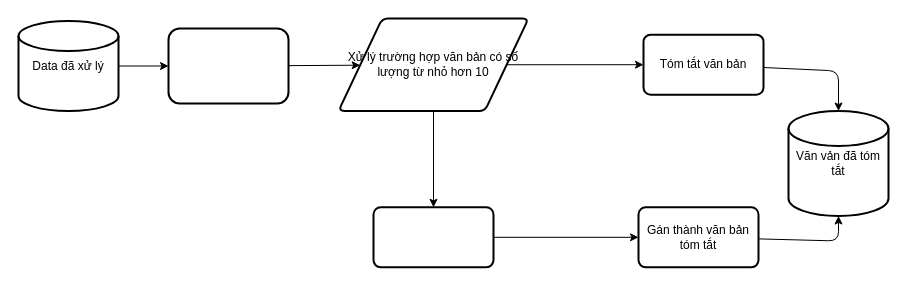
Image size: 906x285. Some labels were removed from this diagram. The centre of each missing label's shape, as x and y in pixels:
Trả về văn bản gốc: the point at 433,237
Xác định số lượng từ trong văn bản đầu vào: the point at 228,65
